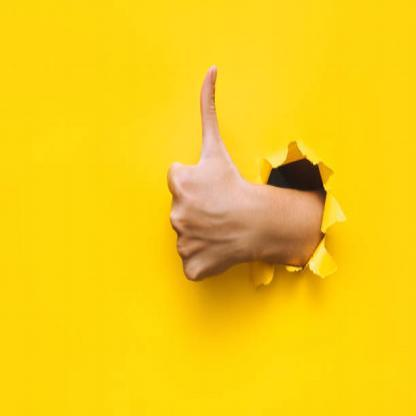thumb_up: (164, 58, 246, 286)
